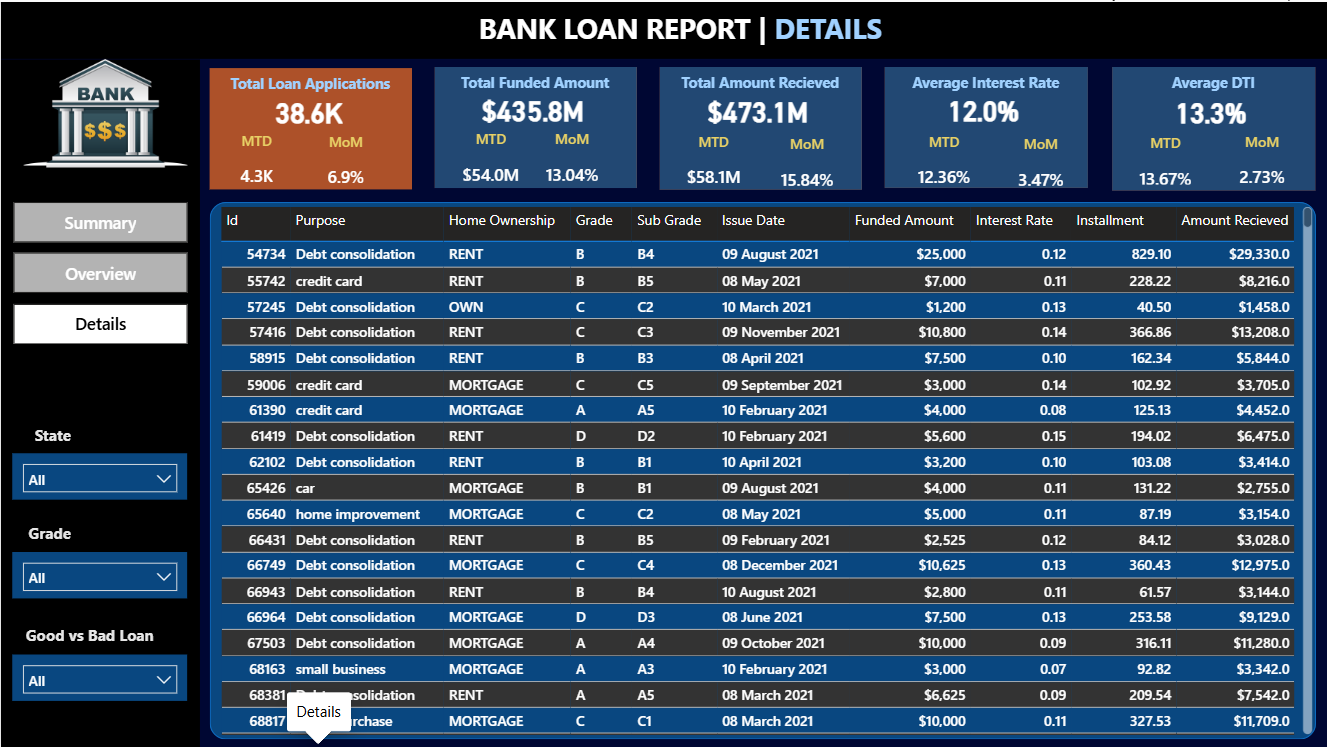

The page's visual inventory and layout, read from the dashboard file:
{"tool":"powerbi","page":{"name":"Details","canvas":[1280,720],"ordinal":2},"visuals":[{"type":"shape","box":[0,0,1280,54.9],"z":0},{"type":"shape","box":[419.4,63.1,195,117],"z":0,"group":"g2"},{"type":"shape","box":[636.9,63.1,195,118.4],"z":0,"group":"g3"},{"type":"shape","box":[853.7,63.1,196.1,116.6],"z":0,"group":"g4"},{"type":"shape","box":[1073.2,63.1,196.1,119.4],"z":0,"group":"g5"},{"type":"shape","box":[201.7,63.4,195,117],"z":0,"group":"g1"},{"type":"shape","box":[0,55.5,192,664.7],"z":1000},{"type":"textbox","box":[418,63.1,196.2,32.9],"z":1000,"group":"g2"},{"type":"textbox","box":[635.5,63.1,196.2,33.3],"z":1000,"group":"g3"},{"type":"textbox","box":[852.3,63.1,197.3,32.8],"z":1000,"group":"g4"},{"type":"textbox","box":[1071.8,63.1,197.3,33.6],"z":1000,"group":"g5"},{"type":"textbox","box":[200.3,63.4,196.2,32.9],"z":1000,"group":"g1"},{"type":"cardVisual","fields":{"Data":["bank_loan_data.Total Funded Amount"]},"box":[416.5,72,194.9,67.2],"z":2000,"group":"g2"},{"type":"cardVisual","fields":{"Data":["bank_loan_data.Average Int Rate"]},"box":[850.8,72,195.9,67],"z":2000,"group":"g4"},{"type":"cardVisual","fields":{"Data":["bank_loan_data.Total Amount Recieved"]},"box":[634,72.1,194.9,68],"z":2000,"group":"g3"},{"type":"cardVisual","fields":{"Data":["bank_loan_data.Avg DTI"]},"box":[1070.3,72.2,195.9,68.6],"z":2000,"group":"g5"},{"type":"cardVisual","fields":{"Data":["bank_loan_data.Total Loan Applications"]},"box":[200.3,75.7,194.9,60.4],"z":2000,"group":"g1"},{"type":"shape","box":[201.5,193,1067.7,518.8],"z":2000},{"type":"textbox","box":[455.6,2.7,437.7,48],"z":3000},{"type":"cardVisual","title":"MTD","fields":{"Data":["bank_loan_data.MTD Loan Applications"]},"box":[211.3,123.8,71.4,54.9],"z":3000,"group":"g1"},{"type":"group","id":"g1","title":"Group 1","box":[200.3,63.4,196.4,117],"z":4000},{"type":"cardVisual","title":"MoM","fields":{"Data":["bank_loan_data.MOM Loan Applications"]},"box":[293.6,125.1,79.6,54.9],"z":4000,"group":"g1"},{"type":"group","id":"g2","title":"Group 1","box":[416.5,63.1,197.6,116.6],"z":5000},{"type":"cardVisual","title":"MoM","fields":{"Data":["bank_loan_data.MOM Funded Amount"]},"box":[503.6,123.5,96.1,54.9],"z":6000},{"type":"group","id":"g3","title":"Group 1","box":[634,63.1,197.6,118],"z":7000},{"type":"cardVisual","title":"MoM","fields":{"Data":["bank_loan_data.MOM Amount Recieved"]},"box":[730,127.6,96.1,54.9],"z":8000},{"type":"cardVisual","title":"MTD","fields":{"Data":["bank_loan_data.MTD Funded amount"]},"box":[424,123.5,98.8,54.9],"z":9000},{"type":"cardVisual","title":"MTD","fields":{"Data":["bank_loan_data.MTD Amount Recieved"]},"box":[640.8,125.4,94.4,54.9],"z":10000},{"type":"group","id":"g4","title":"Group 1","box":[850.8,63.1,199,116.6],"z":11000},{"type":"cardVisual","title":"MTD","fields":{"Data":["bank_loan_data.MTD Avg Int Rates"]},"box":[864.5,124.9,90.6,54.9],"z":12000},{"type":"cardVisual","title":"MoM","fields":{"Data":["bank_loan_data.MOM Avg Int Rate"]},"box":[955.1,127.6,96.1,54.9],"z":13000},{"type":"group","id":"g5","title":"Group 1","box":[1070.3,63.1,199,119.4],"z":14000},{"type":"cardVisual","title":"MTD","fields":{"Data":["bank_loan_data.MTD Avg DTI"]},"box":[1078.6,126.2,90.6,54.9],"z":15000},{"type":"cardVisual","title":"MoM","fields":{"Data":["bank_loan_data.MOM Avg DTI"]},"box":[1169.1,124.9,96.1,54.9],"z":16000},{"type":"slicer","fields":{"Values":["bank_loan_data.address_state"]},"box":[10.9,435.5,168.9,44.6],"z":17000},{"type":"textbox","box":[10.9,403,78.4,32.6],"z":18000},{"type":"slicer","fields":{"Values":["bank_loan_data.grade"]},"box":[10.9,530.8,168.9,44.6],"z":19000},{"type":"textbox","box":[8.4,497.1,77.2,32.6],"z":20000},{"type":"slicer","fields":{"Values":["bank_loan_data.Good v/s Bad Loan"]},"box":[10.9,629.8,168.9,44.6],"z":21000},{"type":"textbox","box":[12.1,596,147.2,32.6],"z":22000},{"type":"tableEx","fields":{"Values":["bank_loan_data.id","bank_loan_data.purpose","bank_loan_data.home_ownership","bank_loan_data.grade","bank_loan_data.sub_grade","bank_loan_data.issue_date","bank_loan_data.Total Funded Amount","Sum(bank_loan_data.int_rate)","Sum(bank_loan_data.installment)","bank_loan_data.Total Amount Recieved"]},"box":[206.3,193,1064.1,518.8],"z":23000},{"type":"image","box":[21.7,35,158,144.8],"z":24000},{"type":"pageNavigator","box":[12.1,193,168.9,139.9],"z":25000}]}

Visuals, with their boxes in screenshot pixels (x1, y1, x2, y2), scaled from the page's 1280x720 canvas onto the 1327x747 screenshot:
shape: rect(0, 0, 1326, 57)
shape: rect(435, 65, 637, 187)
shape: rect(660, 65, 862, 188)
shape: rect(885, 65, 1088, 186)
shape: rect(1113, 65, 1316, 189)
shape: rect(209, 66, 411, 187)
shape: rect(0, 58, 199, 746)
textbox: rect(433, 65, 637, 100)
textbox: rect(659, 65, 862, 100)
textbox: rect(884, 65, 1088, 99)
textbox: rect(1111, 65, 1316, 100)
textbox: rect(208, 66, 411, 100)
cardVisual - bank_loan_data.Total Funded Amount: rect(432, 75, 634, 144)
cardVisual - bank_loan_data.Average Int Rate: rect(882, 75, 1085, 144)
cardVisual - bank_loan_data.Total Amount Recieved: rect(657, 75, 859, 145)
cardVisual - bank_loan_data.Avg DTI: rect(1110, 75, 1313, 146)
cardVisual - bank_loan_data.Total Loan Applications: rect(208, 79, 410, 141)
shape: rect(209, 200, 1316, 738)
textbox: rect(472, 3, 926, 53)
"MTD" cardVisual: rect(219, 128, 293, 185)
"Group 1" group: rect(208, 66, 411, 187)
"MoM" cardVisual: rect(304, 130, 387, 187)
"Group 1" group: rect(432, 65, 637, 186)
"MoM" cardVisual: rect(522, 128, 622, 185)
"Group 1" group: rect(657, 65, 862, 188)
"MoM" cardVisual: rect(757, 132, 856, 189)
"MTD" cardVisual: rect(440, 128, 542, 185)
"MTD" cardVisual: rect(664, 130, 762, 187)
"Group 1" group: rect(882, 65, 1088, 186)
"MTD" cardVisual: rect(896, 130, 990, 187)
"MoM" cardVisual: rect(990, 132, 1090, 189)
"Group 1" group: rect(1110, 65, 1316, 189)
"MTD" cardVisual: rect(1118, 131, 1212, 188)
"MoM" cardVisual: rect(1212, 130, 1312, 187)
slicer - bank_loan_data.address_state: rect(11, 452, 186, 498)
textbox: rect(11, 418, 93, 452)
slicer - bank_loan_data.grade: rect(11, 551, 186, 597)
textbox: rect(9, 516, 89, 550)
slicer - bank_loan_data.Good v/s Bad Loan: rect(11, 653, 186, 700)
textbox: rect(13, 618, 165, 652)
tableEx - bank_loan_data.id x bank_loan_data.purpose: rect(214, 200, 1317, 738)
image: rect(22, 36, 186, 187)
pageNavigator: rect(13, 200, 188, 345)
